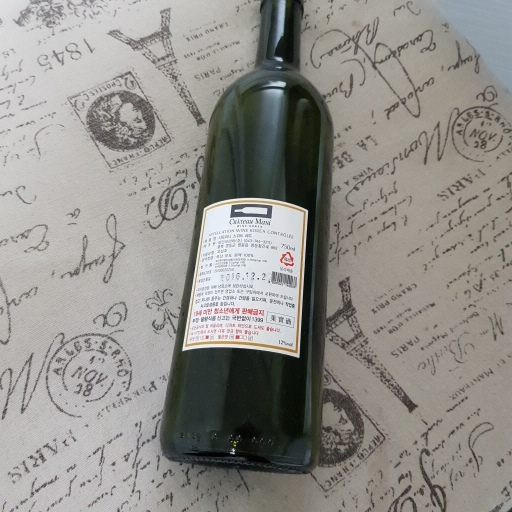Glass_2: (161, 3, 336, 481)
